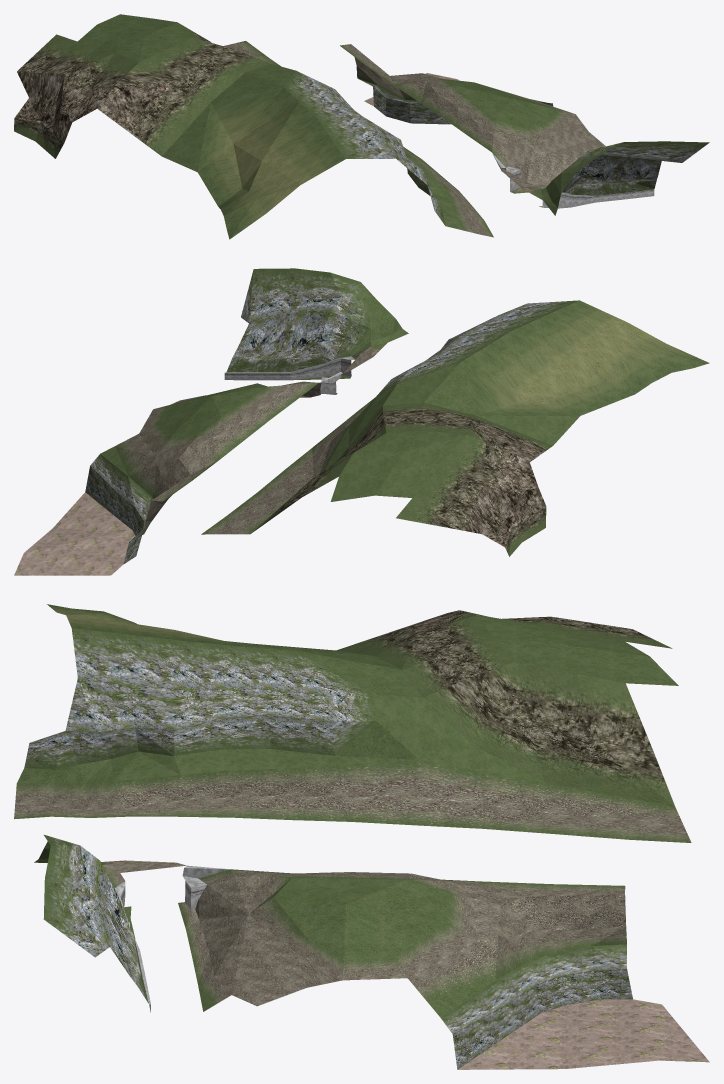
File: cunteground10.obj
3 renders of one model, top to bottom at view 1: azimuth 30°, elevation 25°; view 2: azimuth 150°, elevation 25°; view 3: azimuth 270°, elevation 25°, orthographic. The views are drawn at different scales.
Parts seen in each view (by area): view 1: cuntEground10; view 2: cuntEground10; view 3: cuntEground10.
Boxes of the visible parts, x1=… form: cuntEground10: x1=14, y1=14, x2=709, y2=239; cuntEground10: x1=14, y1=268, x2=709, y2=575; cuntEground10: x1=14, y1=604, x2=709, y2=1069.
Size of the model in its own units: 271 by 96.26 by 265.
Materials: 14 (14 with a texture image).
